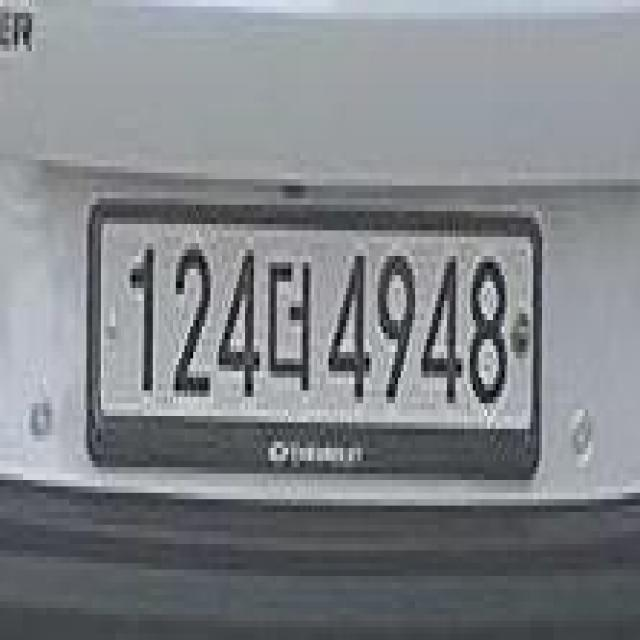illegal_plate: (86, 189, 544, 497)
